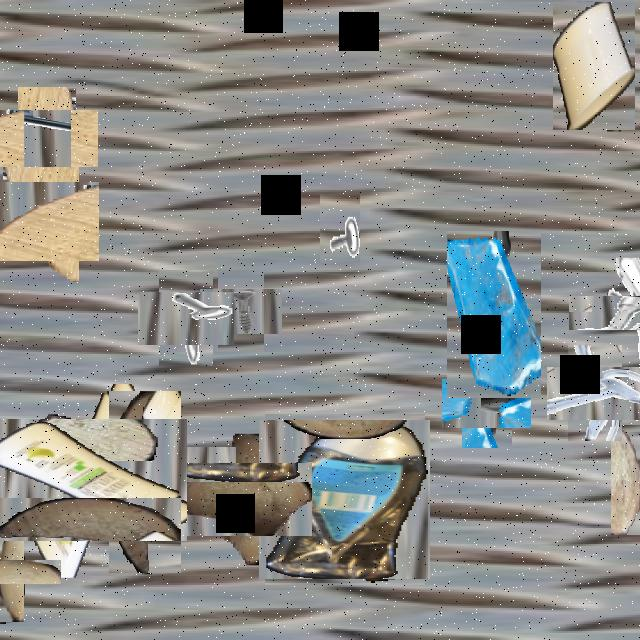glass: (447, 231, 541, 398)
metal: (7, 98, 87, 179), (148, 280, 224, 356), (558, 356, 632, 430), (452, 369, 522, 438), (209, 279, 273, 343), (587, 277, 640, 349), (320, 192, 360, 263)
plastic: (262, 417, 428, 582), (12, 402, 170, 558), (553, 2, 635, 130)
wood: (82, 419, 208, 545), (196, 448, 298, 551), (0, 172, 89, 271), (2, 433, 92, 522), (611, 425, 640, 535), (0, 541, 42, 603)
